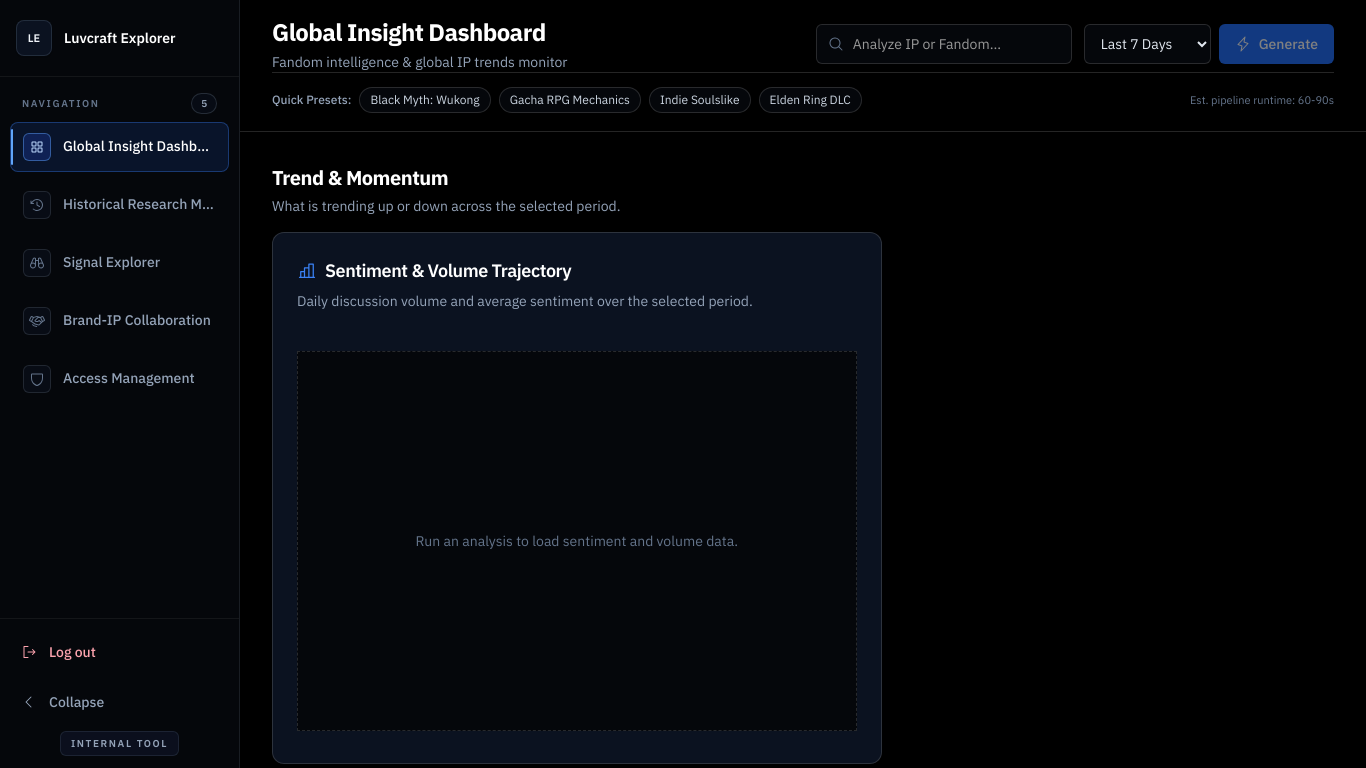
Scenario: End-to-End Frontend Integration Test Suite › Analysis Workflow Lifecycle › executes full submission lifecycle: validate -> submit -> poll -> load results
// Enter keyword in top search bar
In the field with placeholder "Analyze IP or Fandom...": [944, 44] box [816,24,1072,64], type "Genshin Impact"
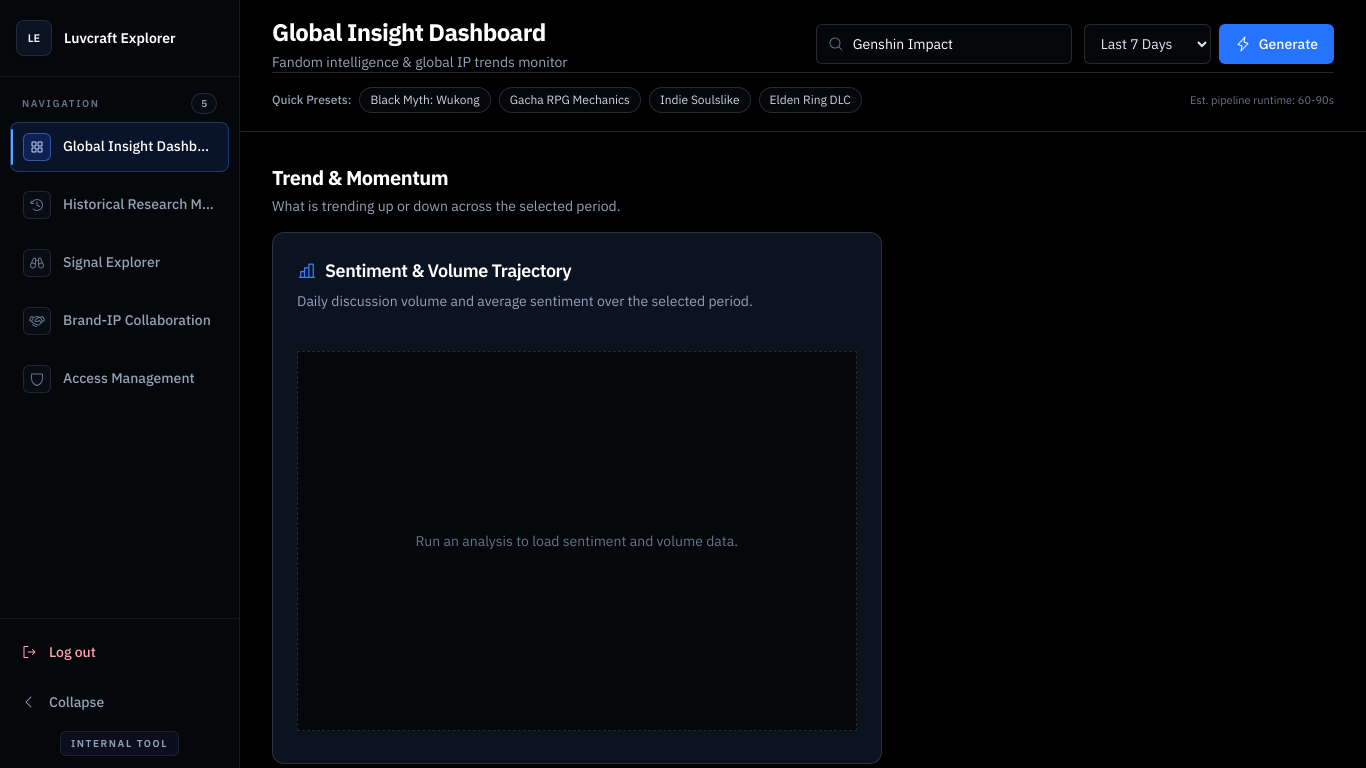
Now the button "Generate" is enabled
Click the button "Generate": [1276, 44] box [1219,24,1334,64]
(page scrolled)
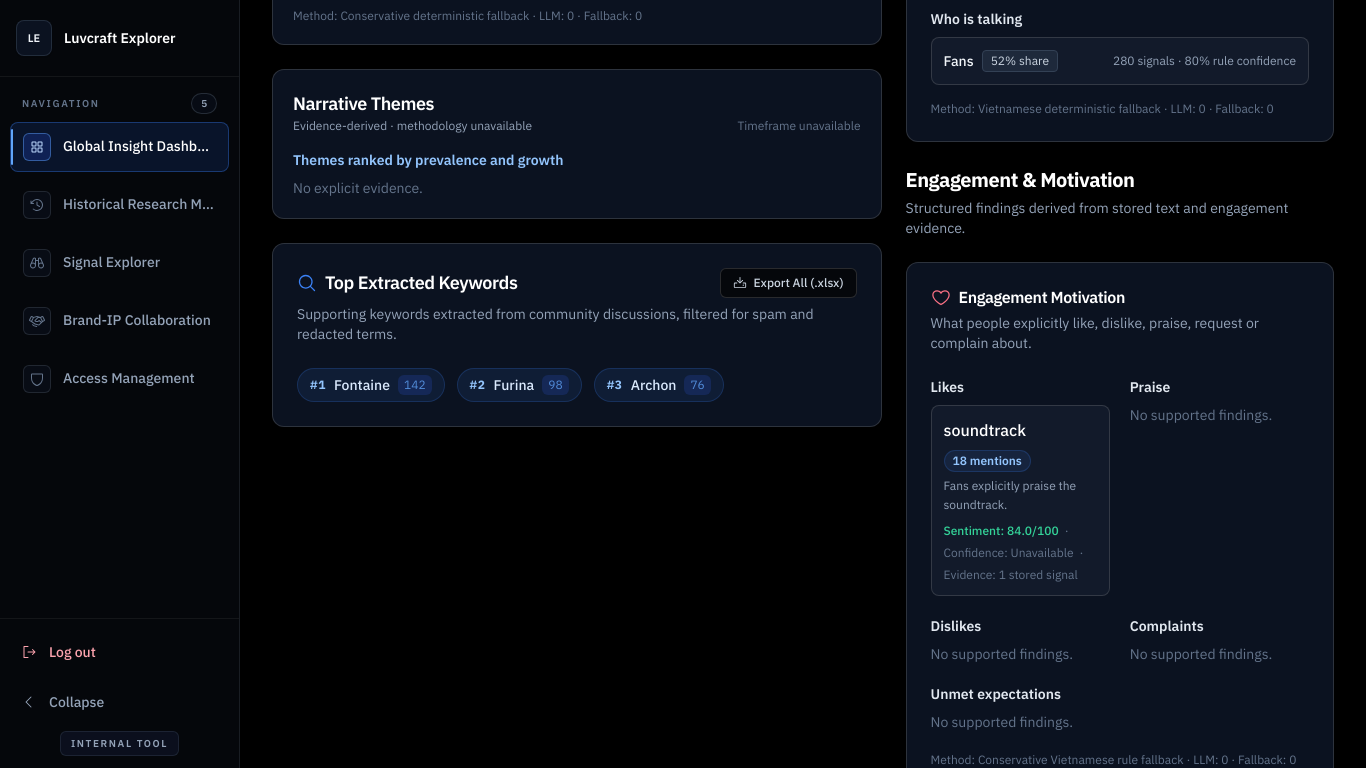
Now the text "Fontaine" is shown, box [334,374,390,394]
